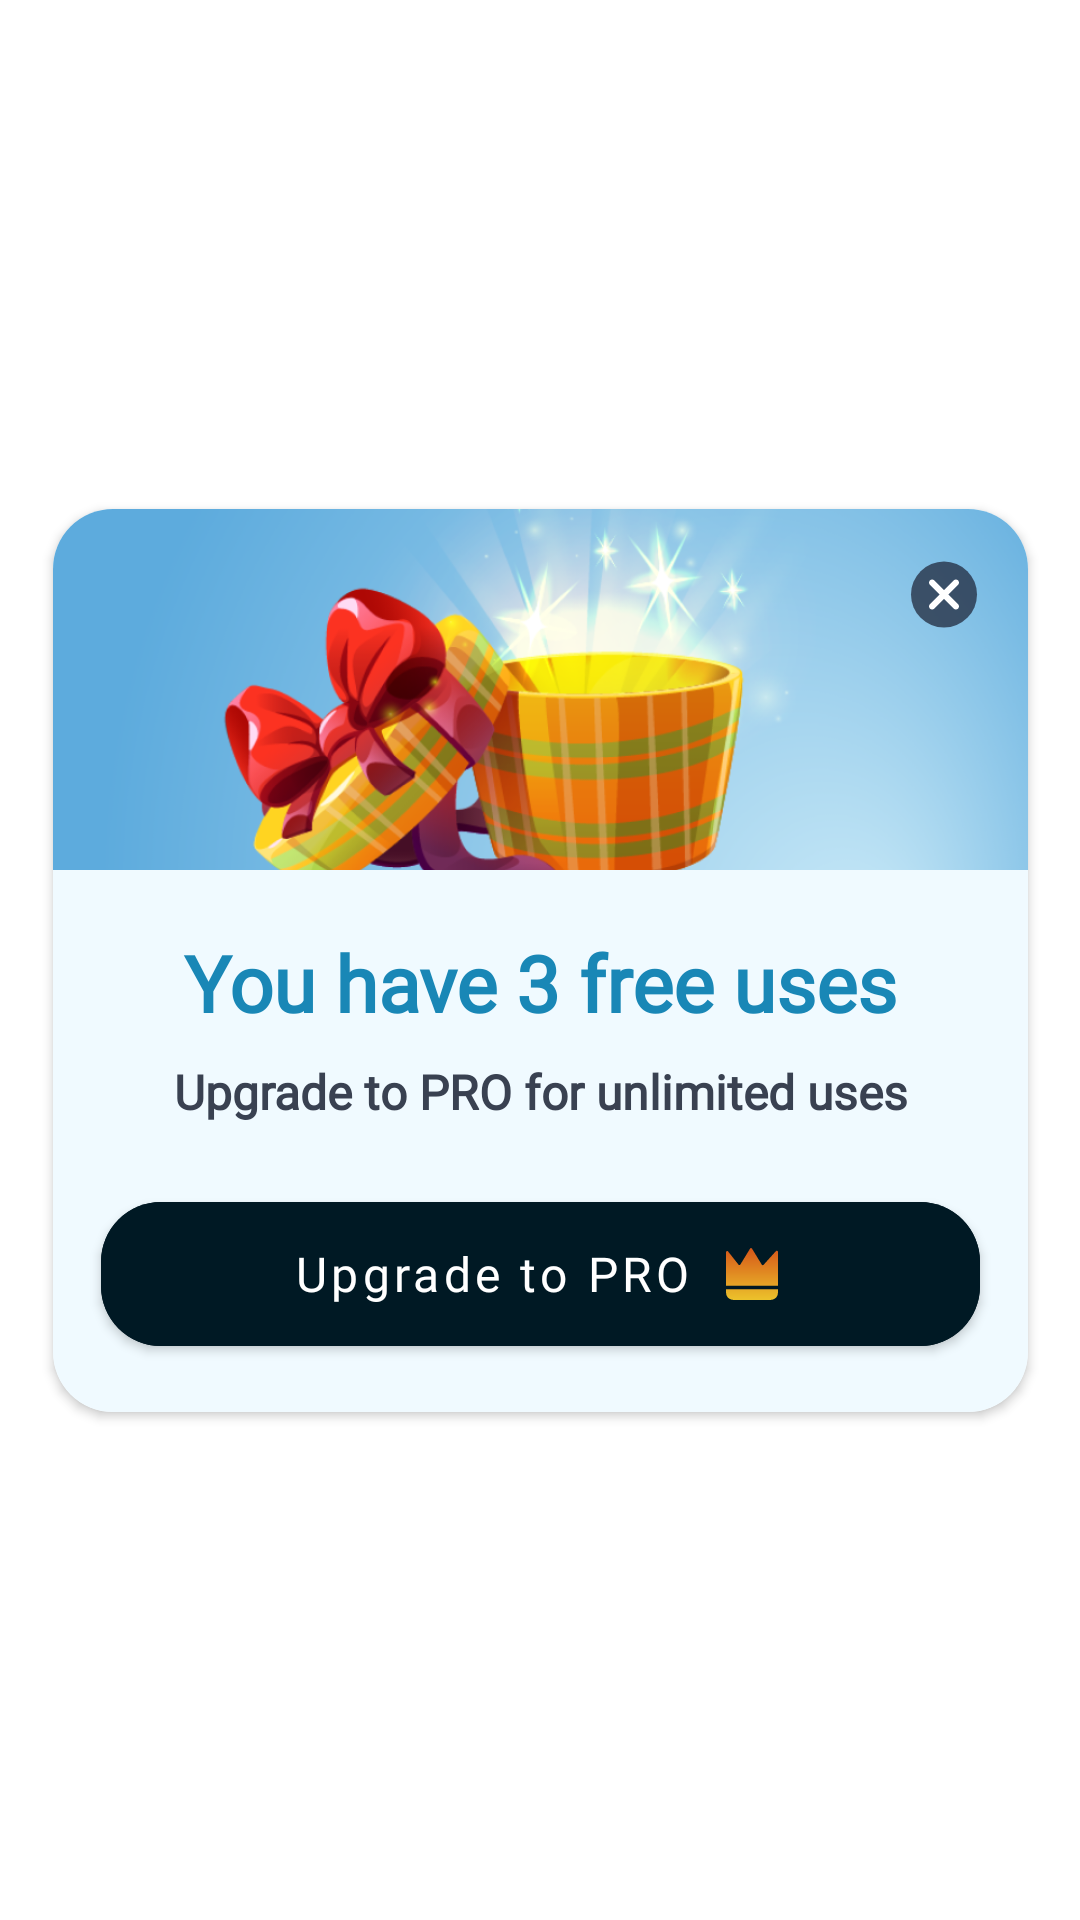

Point at icon controls on the screen. Image size 1080 × 1920, points as (x=x, y=y).
close circle: (x=944, y=594)
